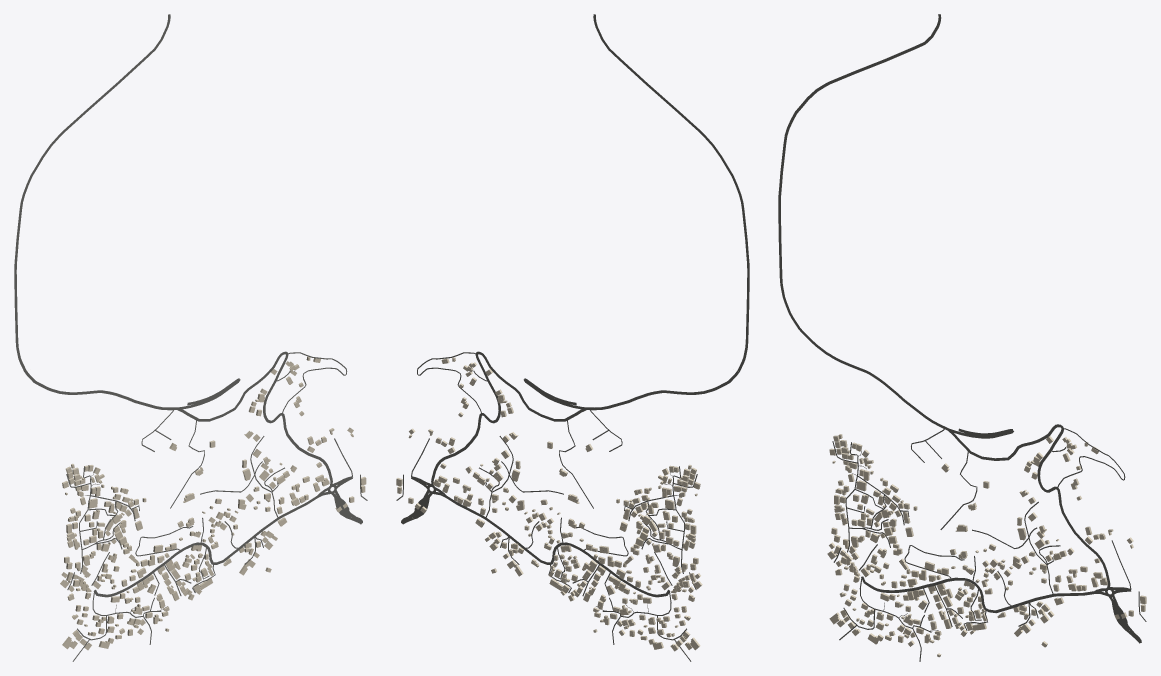
Rendered from historic-palestine-11_23_3528_3174.glb.
3 renders of one model, left to right at view 1: azimuth 30°, elevation 25°; view 2: azimuth 150°, elevation 25°; view 3: azimuth 330°, elevation 25°, orthographic. The views are drawn at different scales.
Parts seen in each view (by area): view 1: Road Ramallah/bethlehem, Road شارع رام الله بيت لحم, Road 4178; view 2: Road Ramallah/bethlehem, Road شارع رام الله بيت لحم, Road 4178; view 3: Road Ramallah/bethlehem, Road شارع رام الله بيت لحم, Road 4178.
Part boxes in pixels (x1,y1,x2,y2): Road Ramallah/bethlehem: (14,14,240,410); Road شارع رام الله بيت لحم: (177,351,332,486); Road 4178: (93,496,318,597); Road Ramallah/bethlehem: (523,14,749,410); Road شارع رام الله بيت لحم: (431,351,586,486); Road 4178: (445,496,670,597); Road Ramallah/bethlehem: (778,14,1013,438); Road شارع رام الله بيت لحم: (948,424,1110,588); Road 4178: (861,576,1095,613).
Bounding box in the file's own units: 1115 × 1887 × 9.01.
